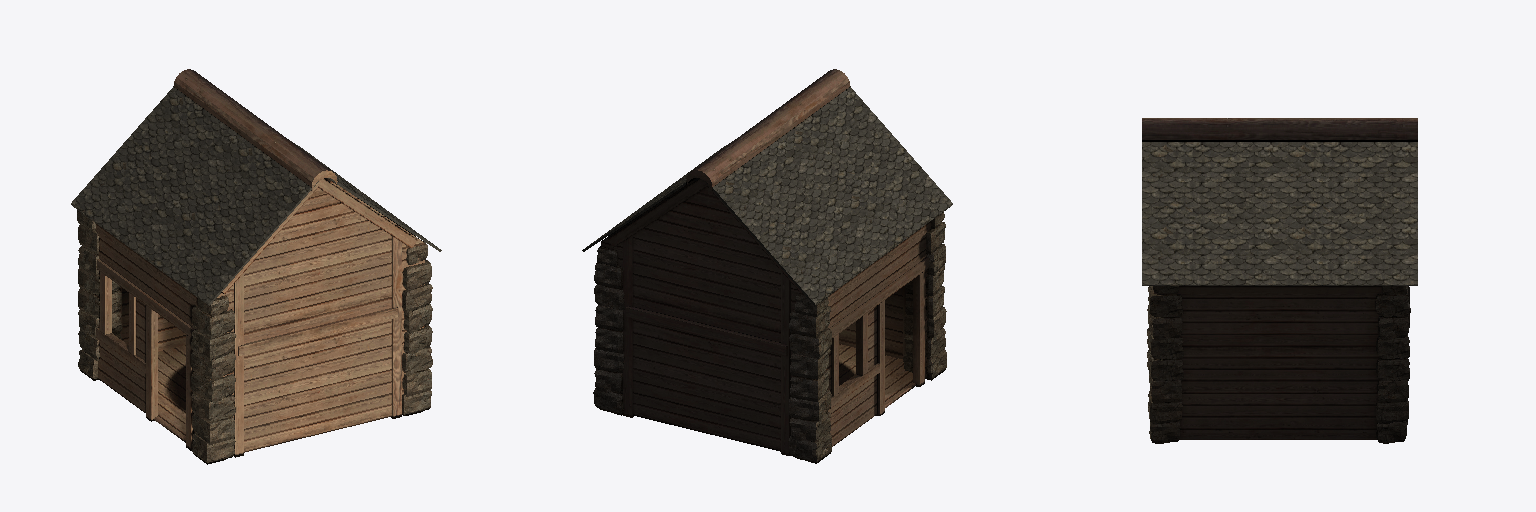
3 renders of one model, left to right at view 1: azimuth 30°, elevation 25°; view 2: azimuth 150°, elevation 25°; view 3: azimuth 270°, elevation 25°, orthographic.
Parts seen in each view (by area): view 1: bakedCabin; view 2: bakedCabin; view 3: bakedCabin.
Boxes of the visible parts, <box> form: bakedCabin: <box>71,69,441,464</box>; bakedCabin: <box>582,69,952,463</box>; bakedCabin: <box>1142,118,1417,443</box>.
Size of the model in its own units: 5.11 by 5.67 by 5.24.
Materials: 7 (7 with a texture image).